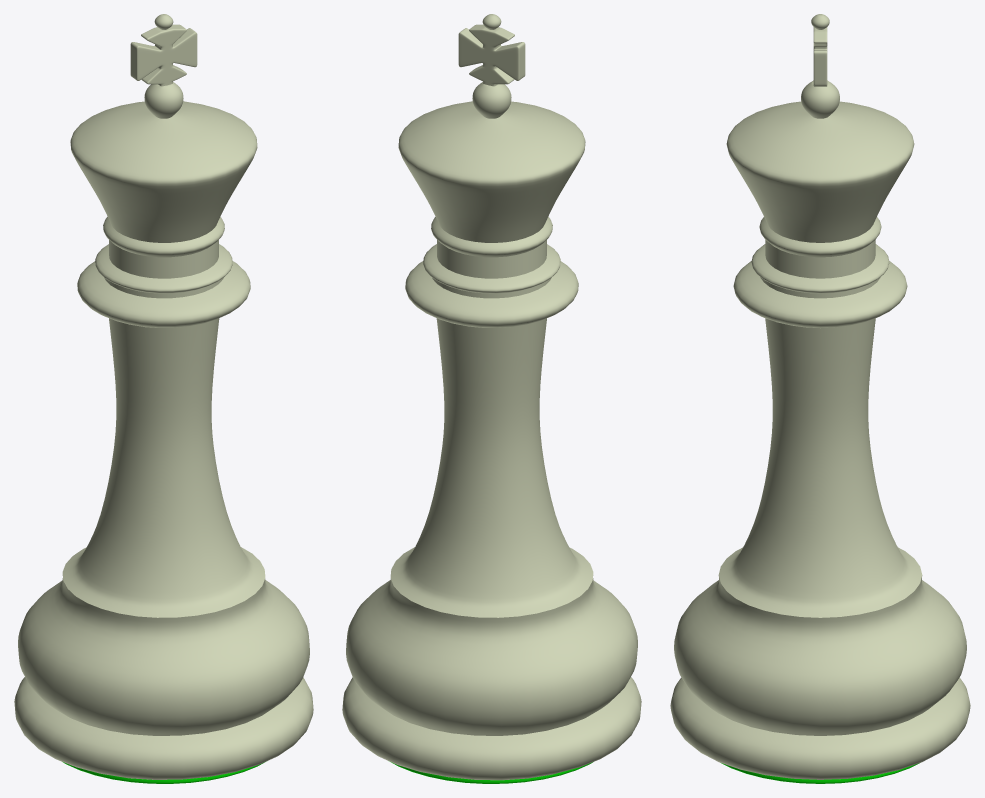
Rendered from King.FBX.
3 views of the same model, side by side, from view 1: azimuth 30°, elevation 25°; view 2: azimuth 150°, elevation 25°; view 3: azimuth 270°, elevation 25° (orthographic).
Parts seen in each view (by area): view 1: king_copy16; view 2: king_copy16; view 3: king_copy16.
Part boxes in pixels (bbox=[...]): king_copy16: bbox=[14, 14, 313, 783]; king_copy16: bbox=[342, 14, 641, 783]; king_copy16: bbox=[670, 14, 970, 783].
Bounding box in the file's own units: 1.87 × 4.93 × 1.87.
